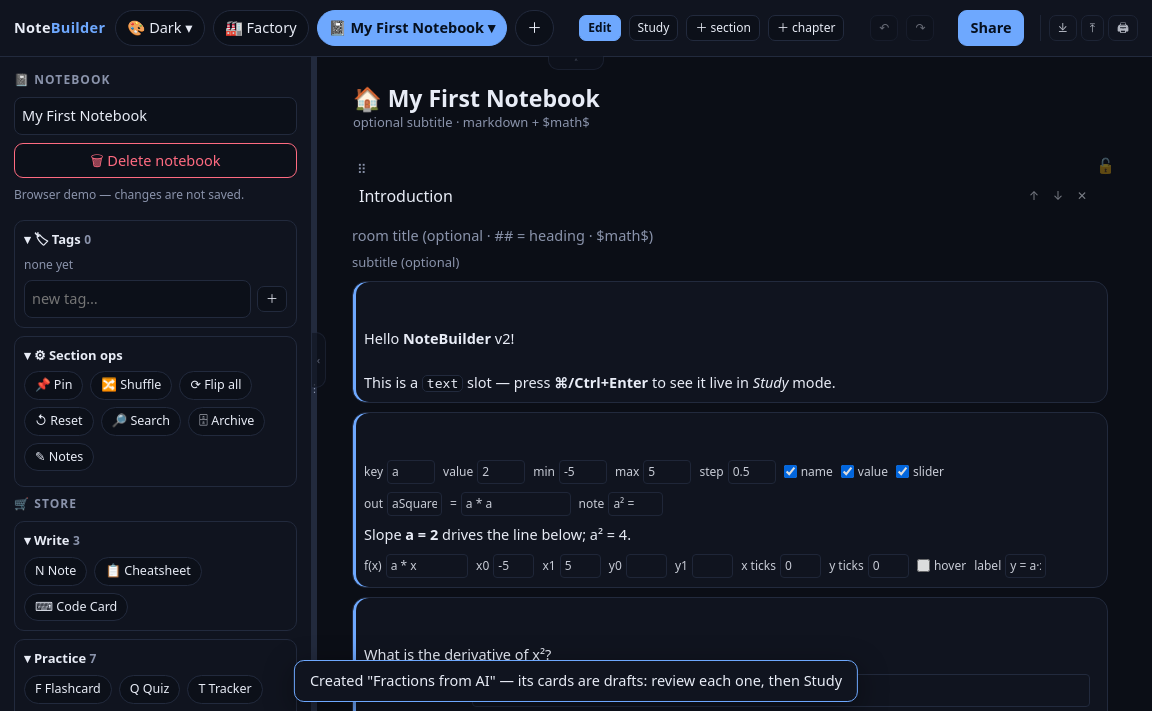
Test case: App — import problems are shown as a readable report › an invalid file opens ImportReport with the problem and its fix hint
Click the button titled "Import a notebook JSON" at (1092, 28), box [1081,15,1104,41]
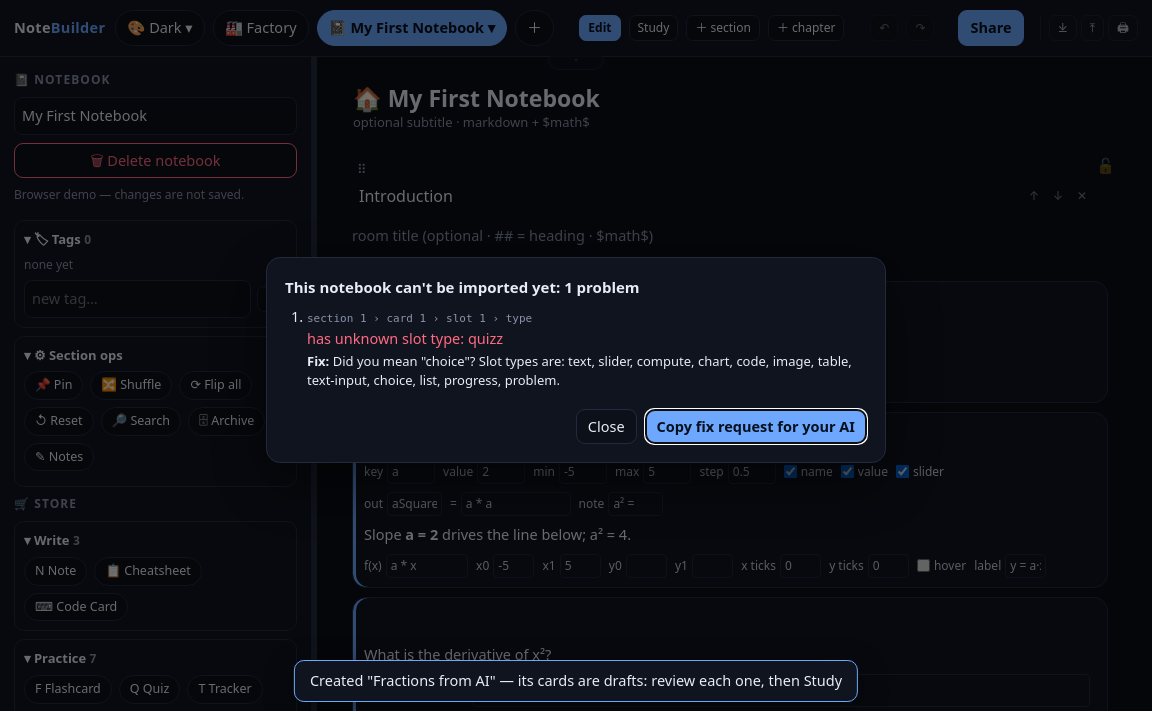
Now the list item with class "ir-item" shows "quizz", box [307,328,503,348]
Now the text "choice" is shown, box [307,352,852,389]
